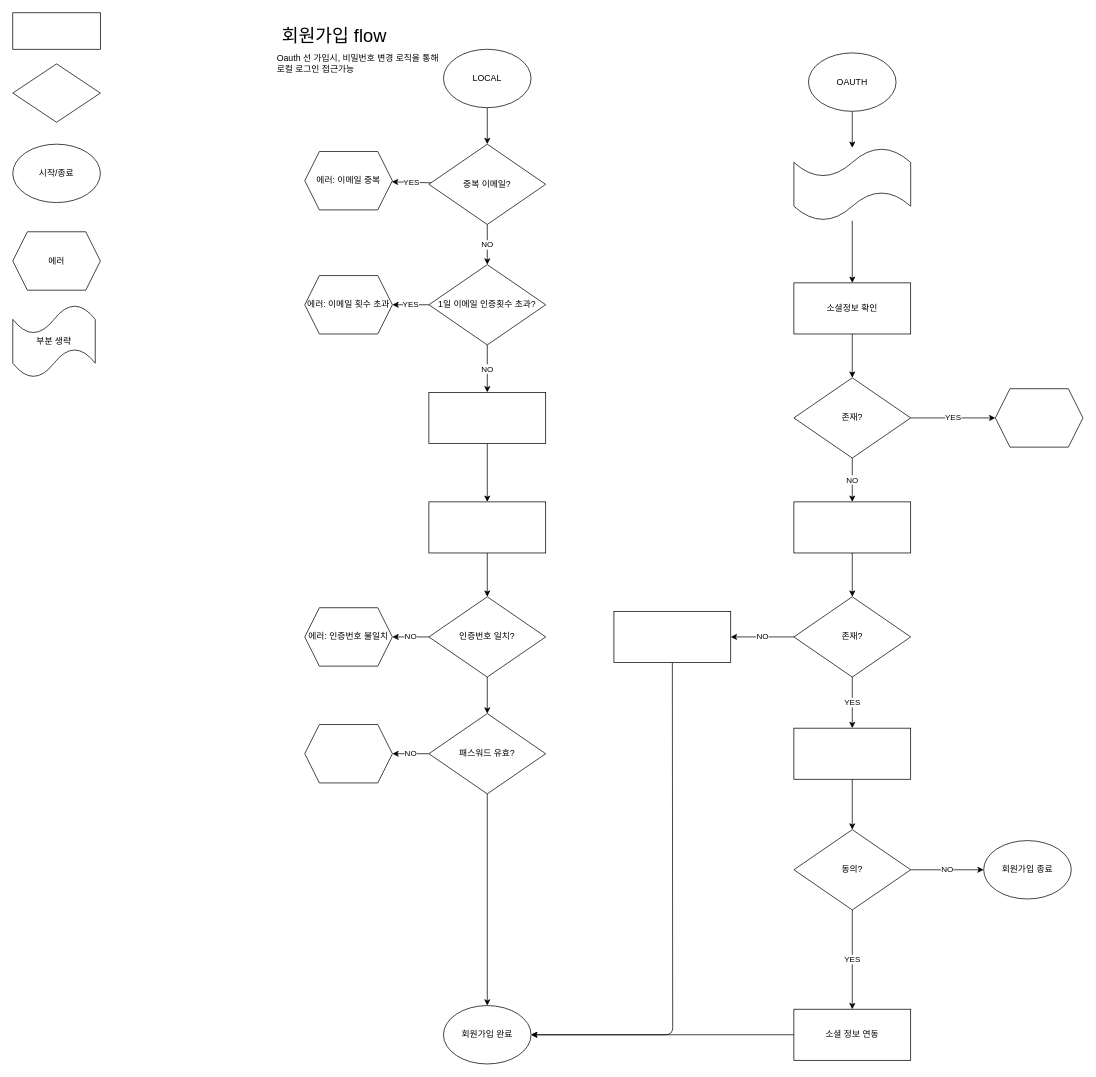
Image size: 1096x1077. Some labels were removed from this diagram. The shapes that lost their labels are listed below. From the top down, each one's centre as x and y in pixels, then its label:
pixel 56 30: 액션
pixel 56 92: 조건
pixel 852 184: 각 소셜 인증 진행
pixel 487 417: 이메일 인증 코드 전송
pixel 1039 417: 에러: 이미존재하는 유저
pixel 487 527: 이메일 인증 코드 확인
pixel 852 527: 이메일 존재 여부 확인
pixel 672 636: 새로운 유저 생성
pixel 348 753: 에러: 패스워드 에러
pixel 852 753: 소셜정보 연동 권유
